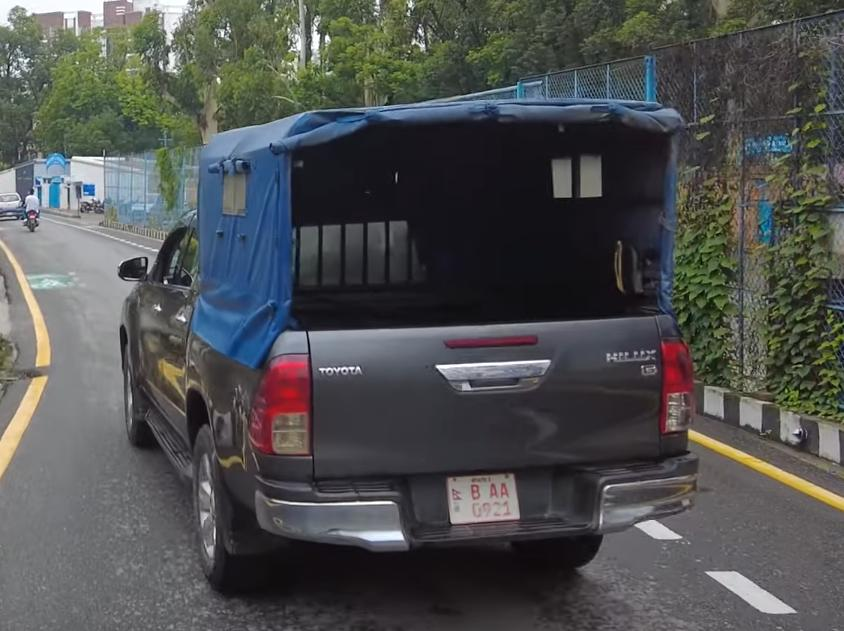bike: (17, 204, 45, 234)
car: (0, 187, 27, 224)
police_vehicle: (110, 74, 715, 609)
